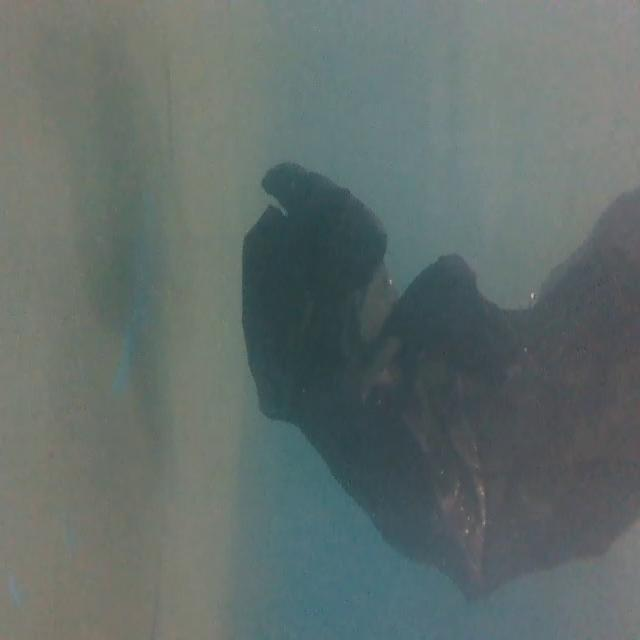plastic bags: (225, 154, 640, 598)
